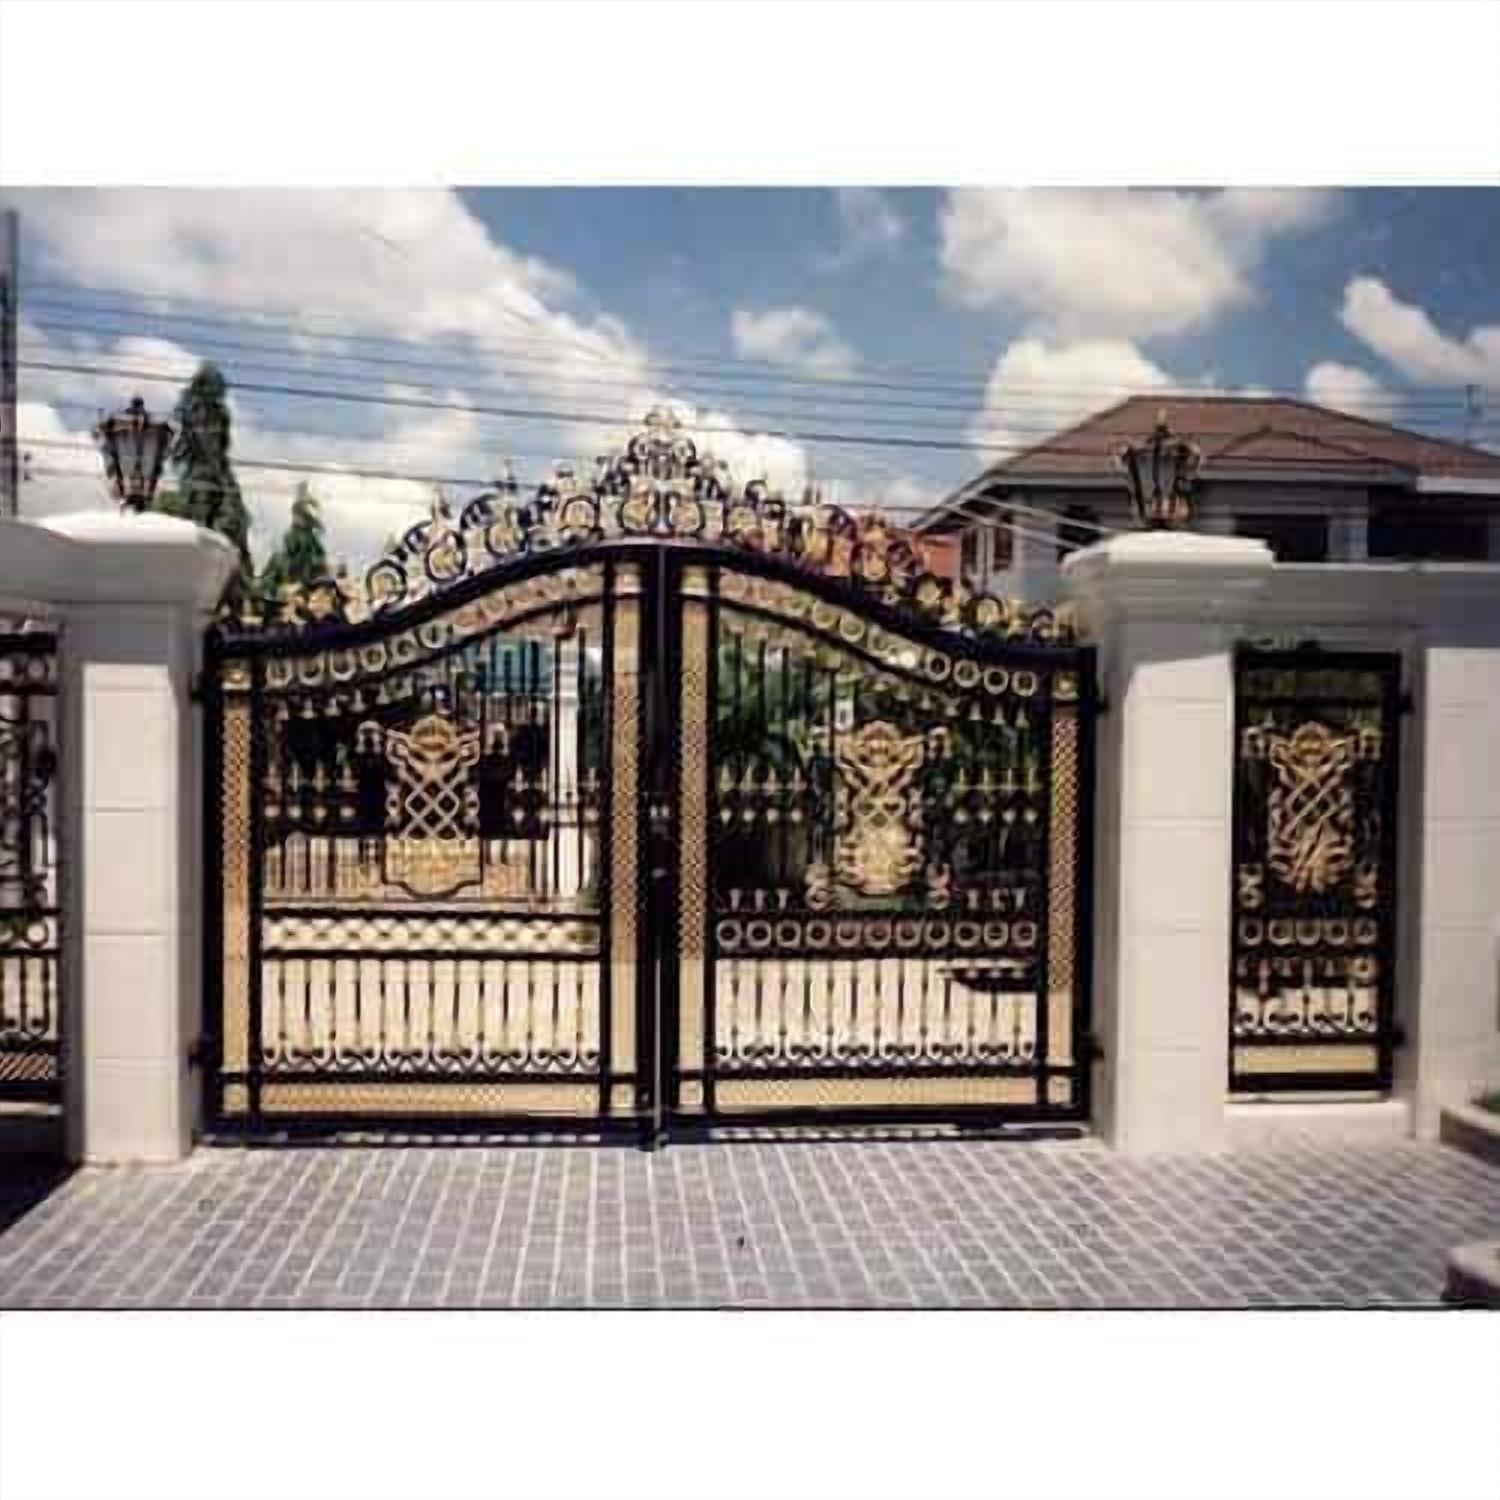Building: (855, 396, 1500, 854)
Gate: (199, 404, 1099, 1147), (1227, 637, 1404, 1096), (0, 611, 64, 1104)
Window-without-grill: (996, 509, 1019, 574), (960, 526, 981, 576)
